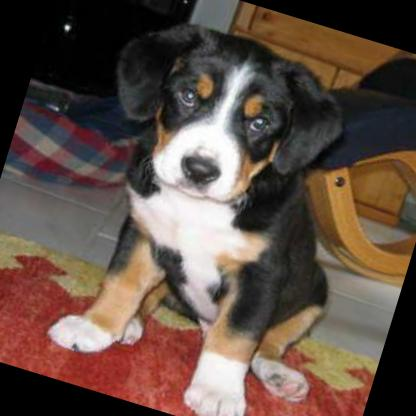EntleBucher: (17, 0, 404, 416)
